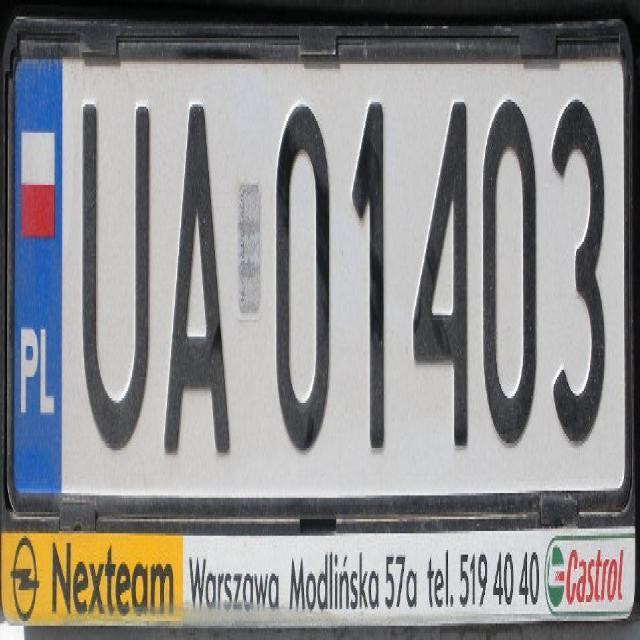License_Plate: (0, 31, 628, 507)
